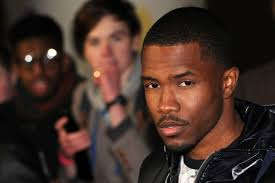black_male: (131, 12, 233, 164)
